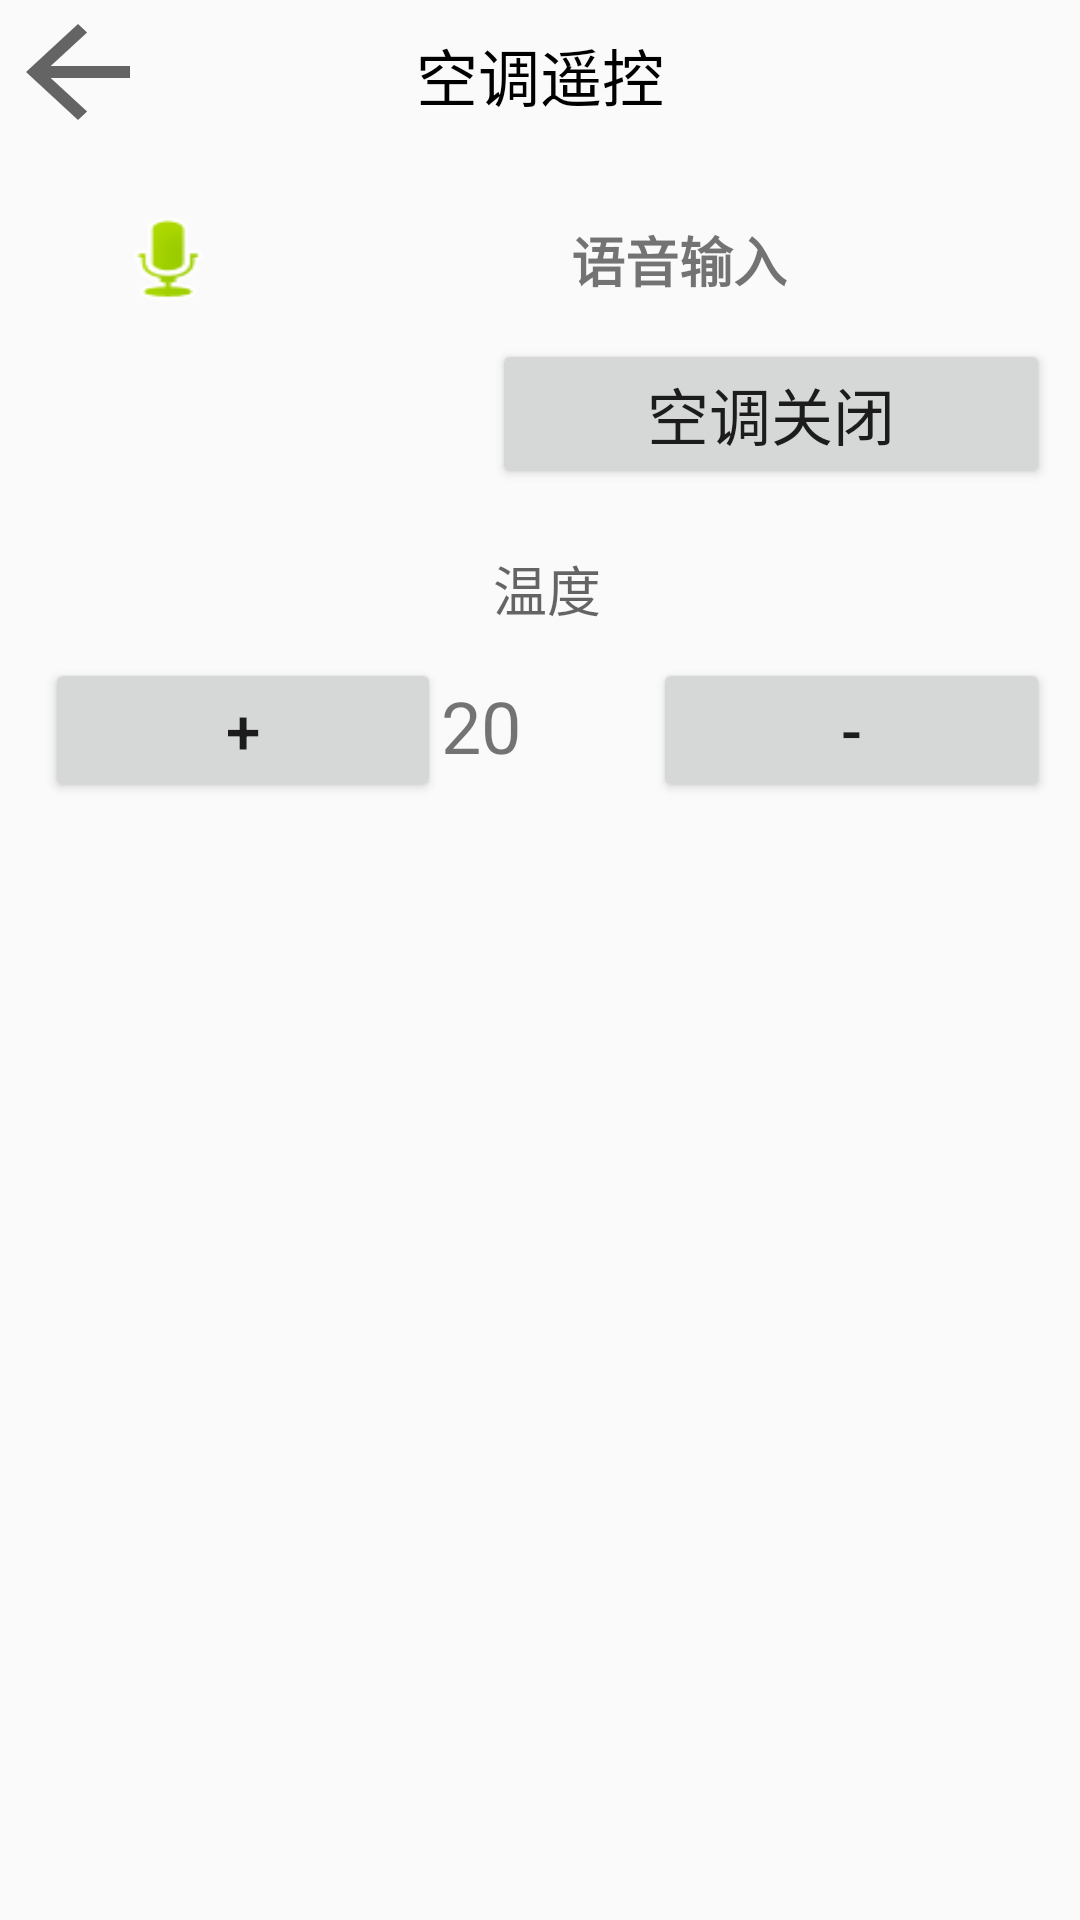

Icons on this 1080 x 1920 Android screen, each with the point to tap as (x=x, y=y):
presence audio online: (x=168, y=258)
